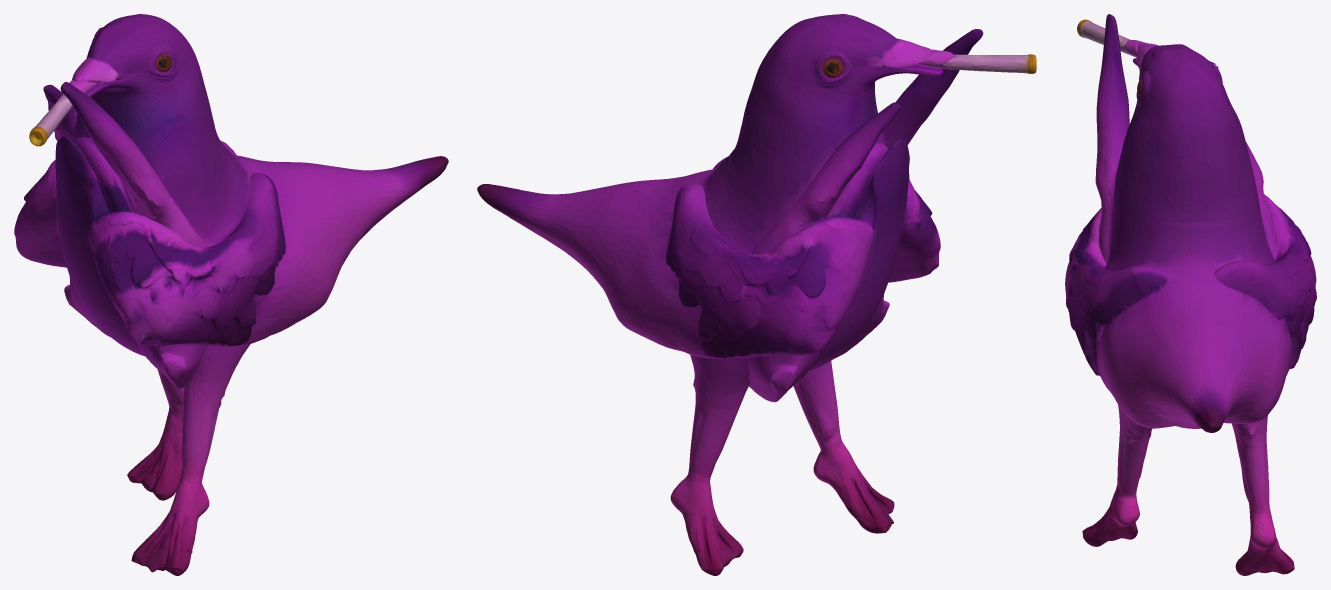
The model's file is pigeon.glb.
3 renders of one model, left to right at view 1: azimuth 30°, elevation 25°; view 2: azimuth 150°, elevation 25°; view 3: azimuth 270°, elevation 25°, orthographic. The views are drawn at different scales.
Size of the model in its own units: 0.952 by 0.9795 by 0.4539.
